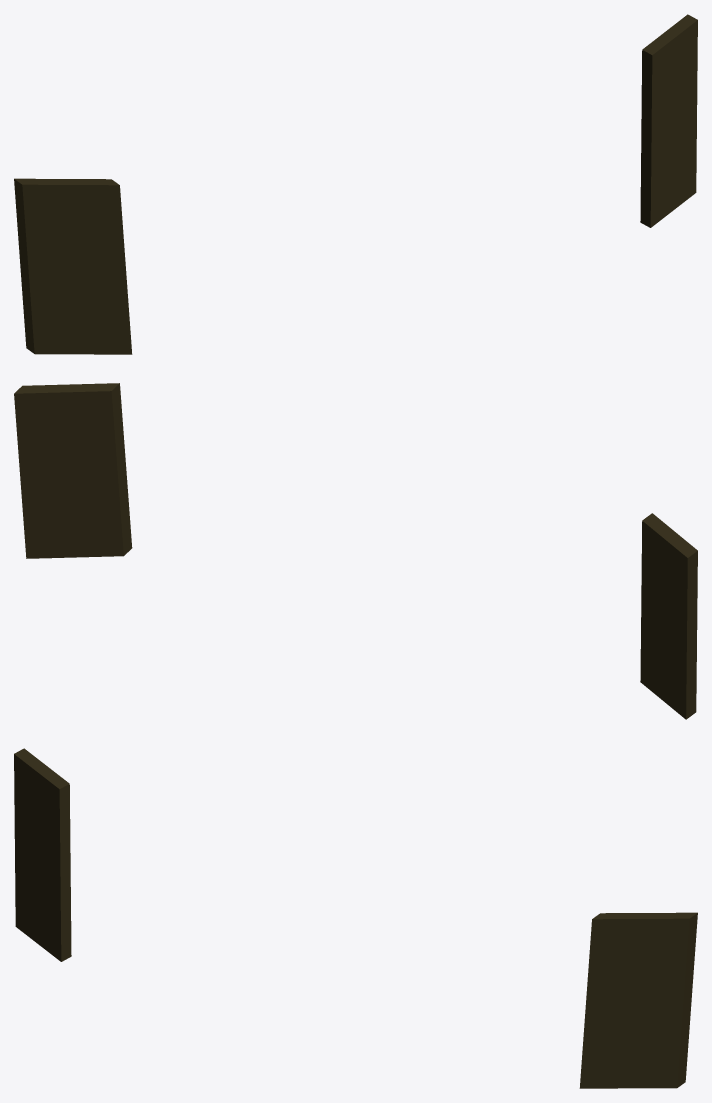
Rendered from Eyes.fbx.
3 views of the same model, one above another, from view 1: azimuth 30°, elevation 25°; view 2: azimuth 150°, elevation 25°; view 3: azimuth 330°, elevation 25° (orthographic).
Visible parts, largest first — view 1: Eyes; view 2: Eyes; view 3: Eyes.
Part boxes in pixels (box(x1,y1,x2,y2)): Eyes: box(14, 14, 697, 354); Eyes: box(14, 383, 697, 719); Eyes: box(14, 748, 697, 1088).
Bounding box in the file's own units: 67.17 × 16.09 × 6.98.
